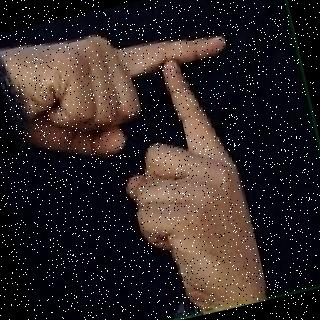T: (1, 0, 279, 316)
